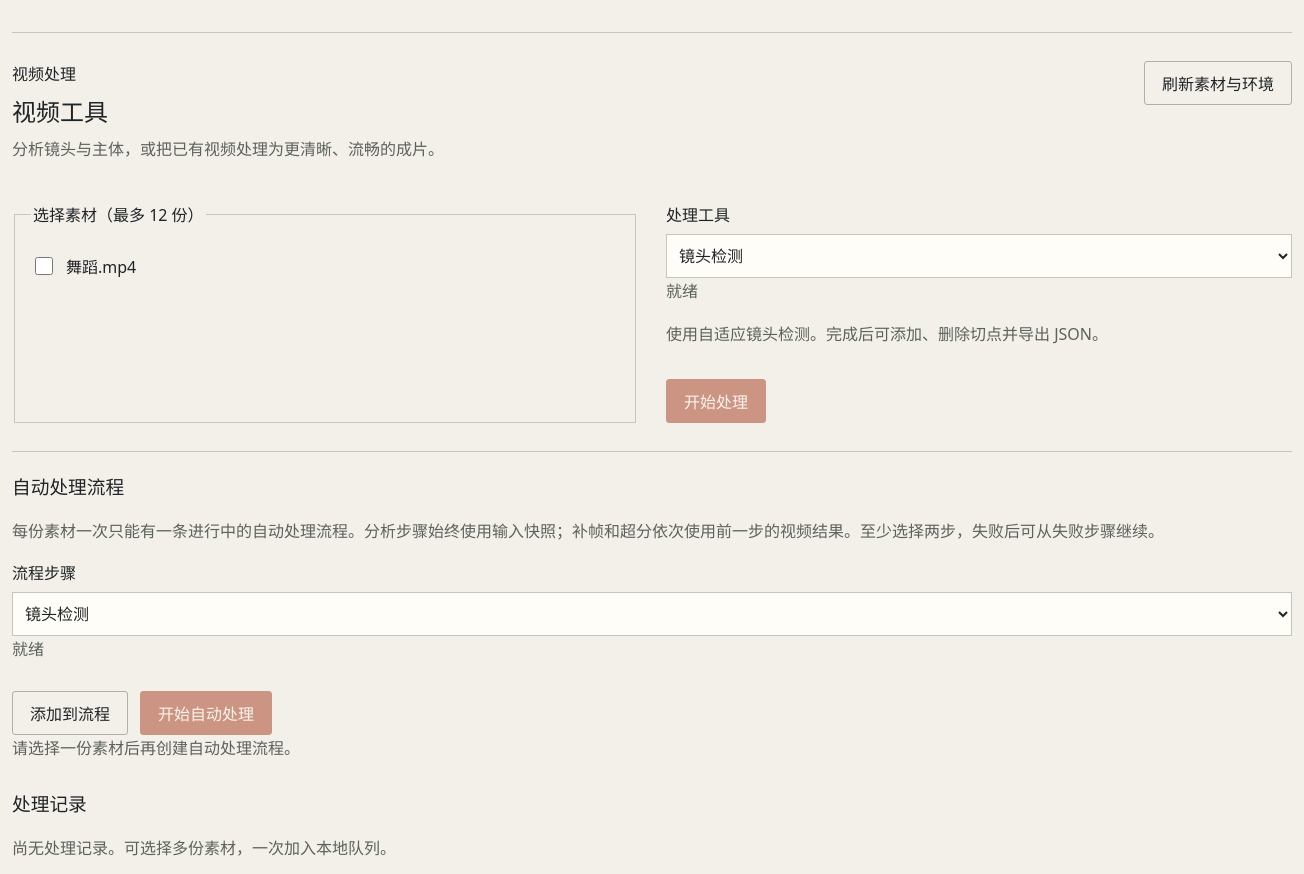
it: 视频工具 › missing model disables run but retains asset and analysis controls
Expected: the text "舞蹈.mp4" is shown, 66,254 -> 136,278
Select "主体跟踪" in the dropdown labelled "处理工具" at (979, 256), box 666,234 -> 1292,278
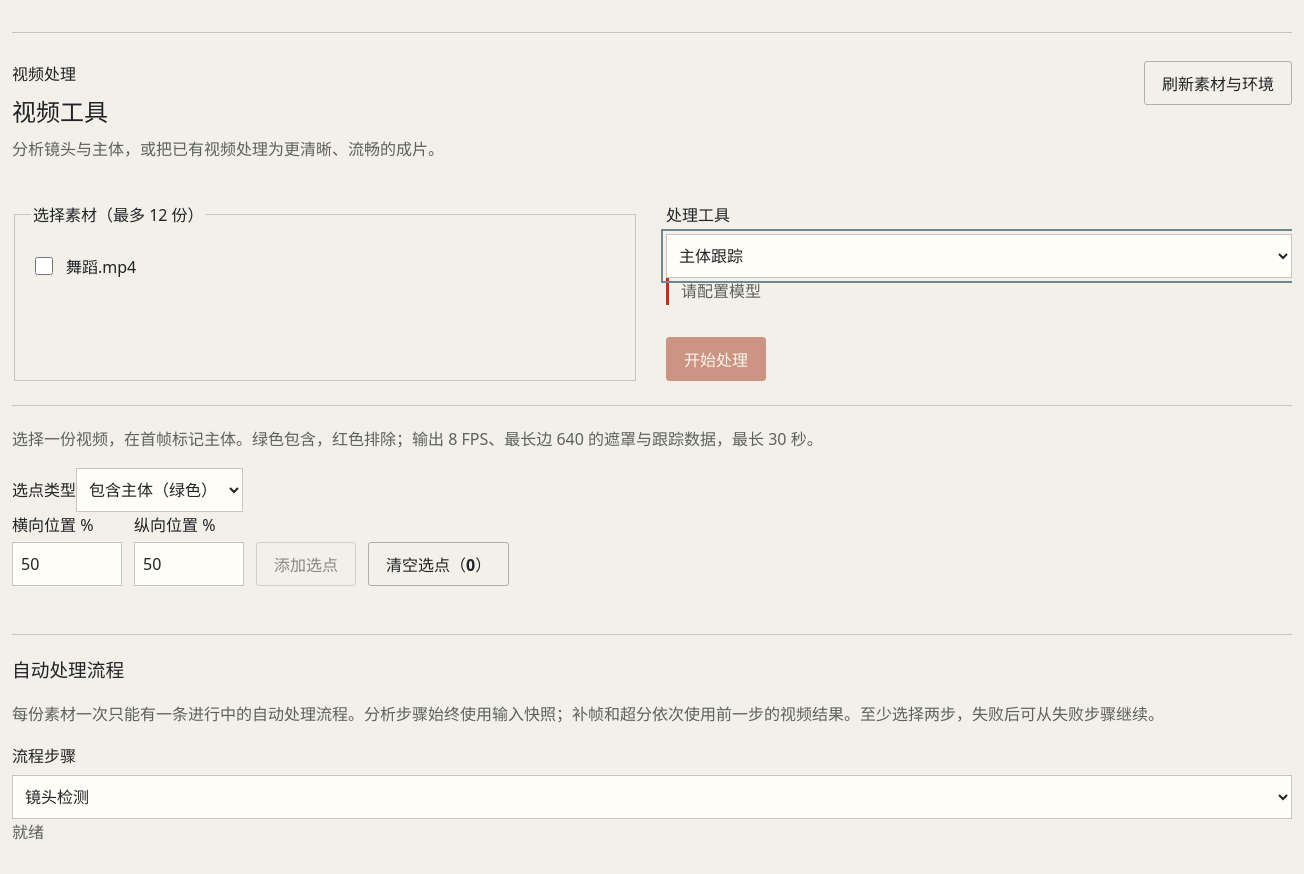
Expected: the button "开始处理" is disabled, 666,337 -> 766,381
Expected: the text "请配置模型" is shown, 666,278 -> 1292,305
